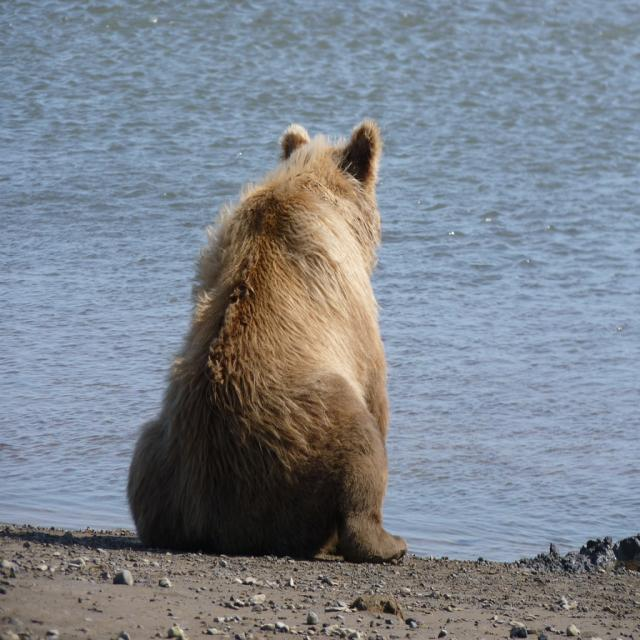Cheetahs: (128, 110, 408, 564)
